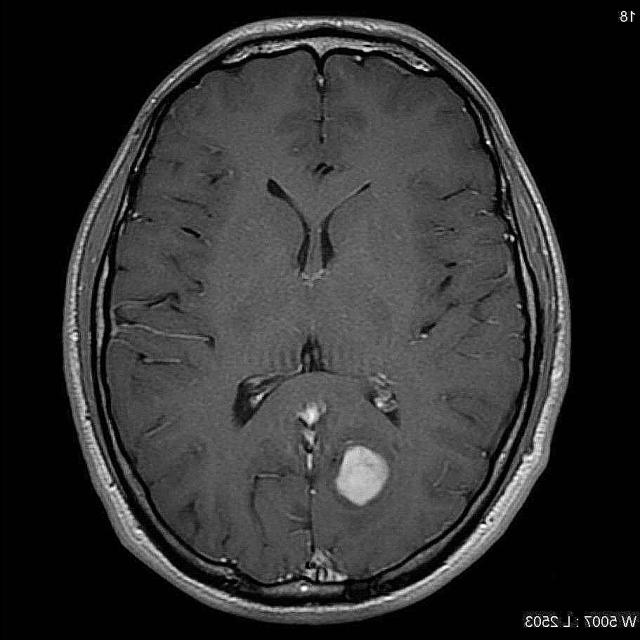Tumor-Cell: (321, 431, 391, 514)
